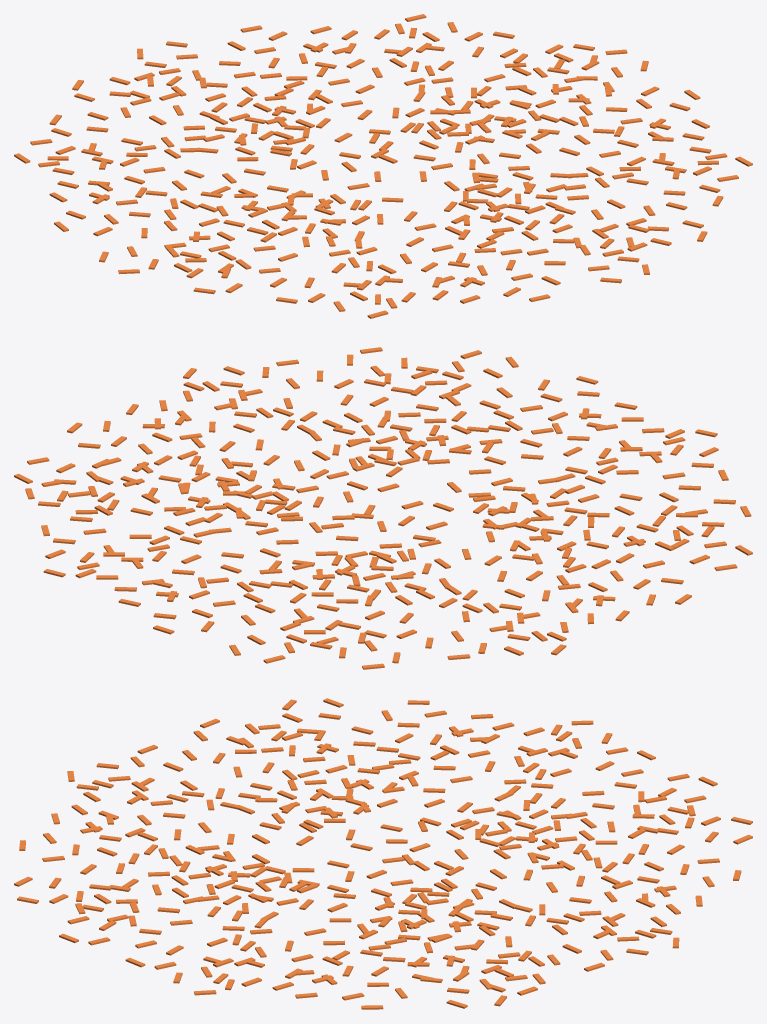
The model's file is cheddar.glb.
3 views of the same model, one above another, from view 1: azimuth 30°, elevation 25°; view 2: azimuth 150°, elevation 25°; view 3: azimuth 270°, elevation 25° (orthographic). The views are drawn at different scales.
Parts seen in each view (by area): view 1: mozzarella1; view 2: mozzarella1; view 3: mozzarella1.
Part boxes in pixels (box(x1,y1,x2,y2)): mozzarella1: box(14, 14, 752, 318); mozzarella1: box(14, 347, 752, 669); mozzarella1: box(14, 698, 752, 1009).
Size of the model in its own units: 0.3394 by 0.00086 by 0.3421.
